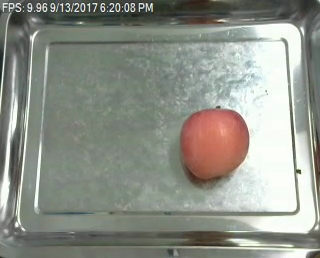Apple: (176, 103, 250, 184)
